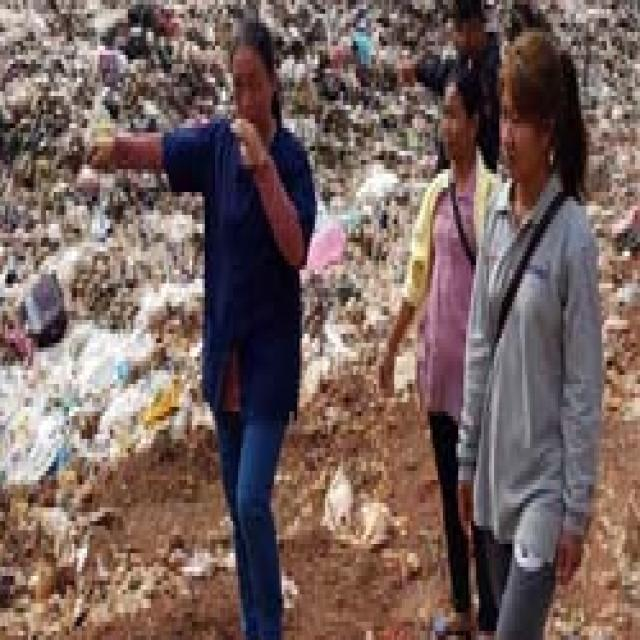-: (0, 9, 67, 448), (76, 203, 194, 417), (553, 0, 640, 128), (0, 0, 415, 23), (0, 192, 115, 265)
